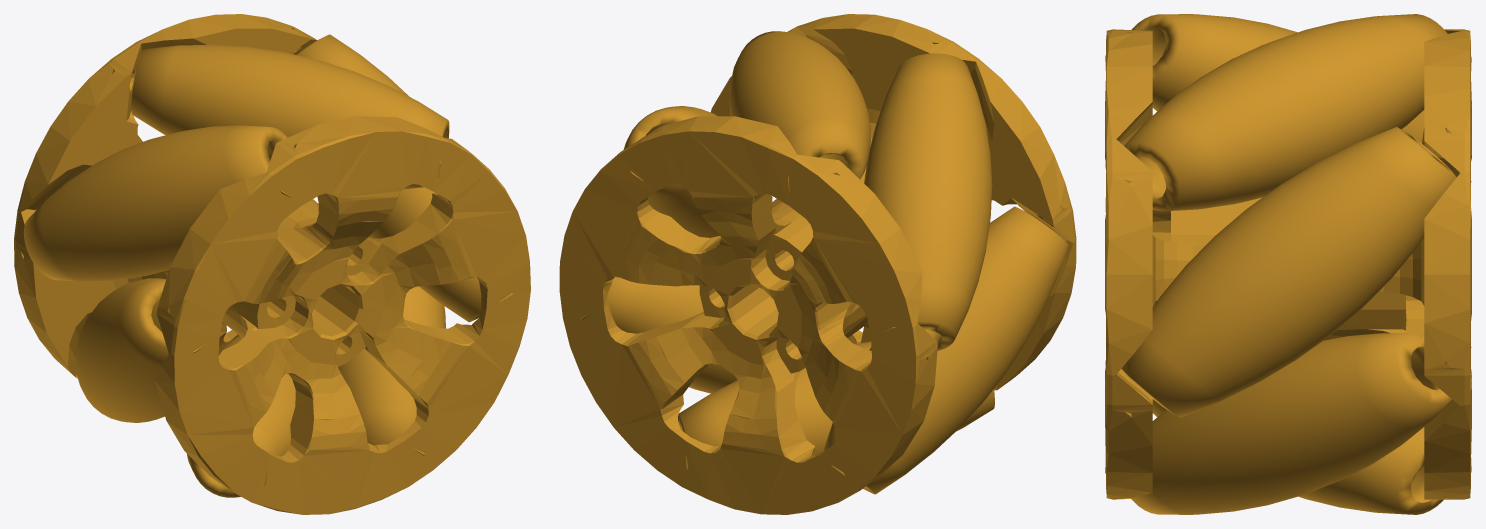
Rendered from back-right_wheel.dae.
The picture shows the model from 3 angles, left to right: view 1: azimuth 30°, elevation 25°; view 2: azimuth 150°, elevation 25°; view 3: azimuth 270°, elevation 25°; orthographic projection. The views are drawn at different scales.
Visible parts, largest first — view 1: back-right_wheel; view 2: back-right_wheel; view 3: back-right_wheel.
Part boxes in pixels (x1,y1,x2,y2): back-right_wheel: [14, 14, 530, 514]; back-right_wheel: [559, 14, 1076, 514]; back-right_wheel: [1105, 14, 1471, 514].
Size of the model in its own units: 0.0999 by 0.0731 by 0.0997.
